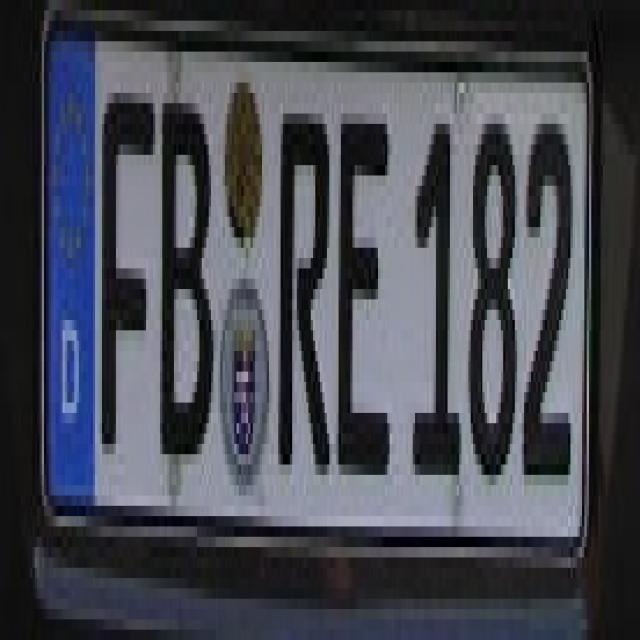1: (411, 103, 462, 464)
2: (522, 113, 568, 474)
8: (471, 113, 515, 474)
B: (158, 92, 214, 464)
E: (336, 113, 389, 464)
F: (102, 82, 153, 475)
